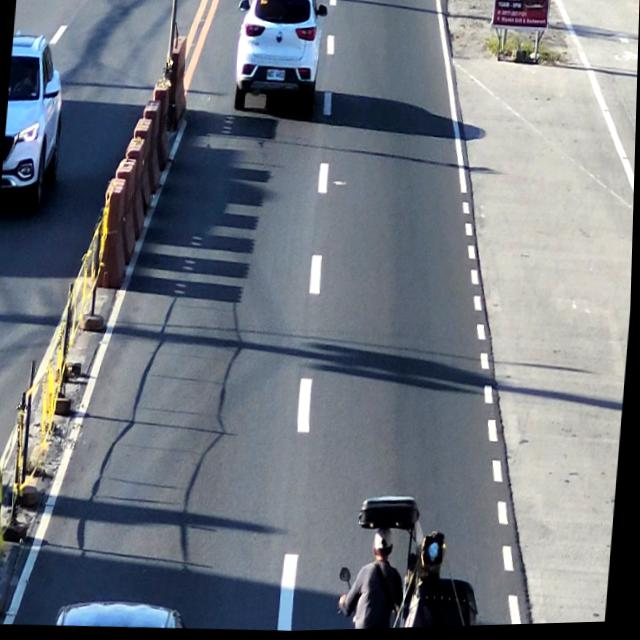Car: (231, 0, 324, 128), (55, 590, 189, 632)
Tricycle: (335, 486, 495, 632)
